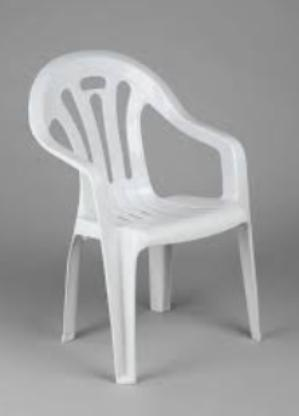chair: (26, 41, 271, 390)
